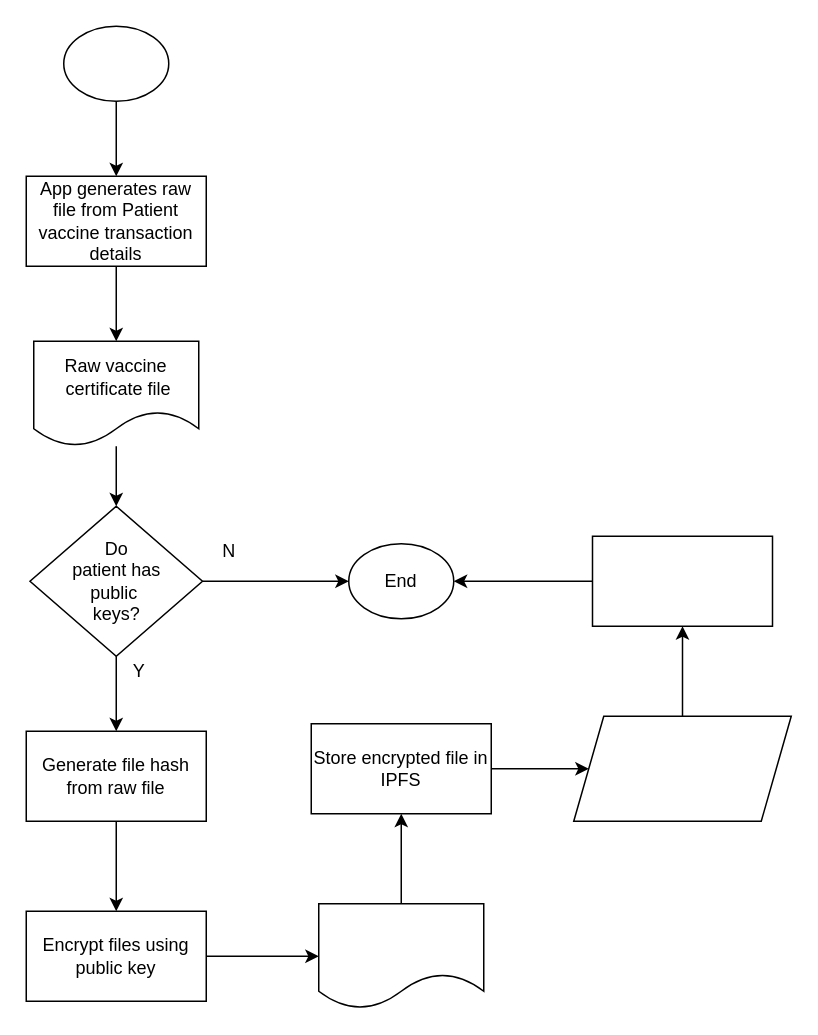
This 818x1035 diagram has some shape labels left out. Here are the shapes that lost their labels. From the top down, the centre of each, then its label:
the point at 115,63: Start
the point at 681,580: Log file hash and content id to blockchain
the point at 681,768: IPFS generates content ID from file
the point at 400,955: Encrypted file
